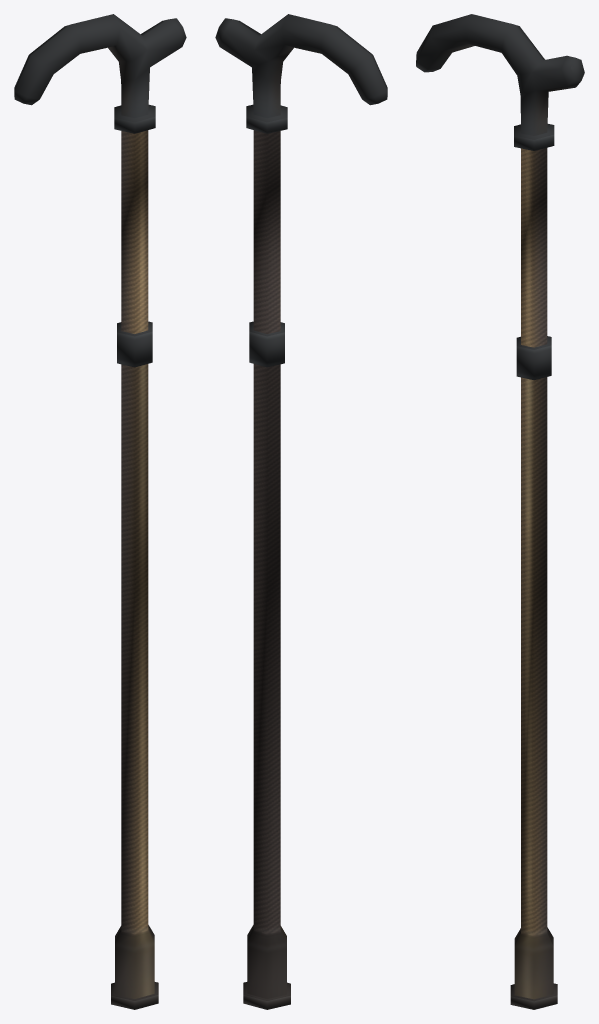
File: SiZheBingFang_01_guaizhang_01.FBX
The picture shows the model from 3 angles, left to right: view 1: azimuth 30°, elevation 25°; view 2: azimuth 150°, elevation 25°; view 3: azimuth 330°, elevation 25°; orthographic projection. The views are drawn at different scales.
Parts seen in each view (by area): view 1: SiZheBingFang_guaizhang_01; view 2: SiZheBingFang_guaizhang_01; view 3: SiZheBingFang_guaizhang_01.
Part boxes in pixels (x1,y1,x2,y2): SiZheBingFang_guaizhang_01: (14,14,186,1009); SiZheBingFang_guaizhang_01: (215,14,387,1009); SiZheBingFang_guaizhang_01: (416,14,584,1009).
Bounding box in the file's own units: 127 × 715 × 31.31.
